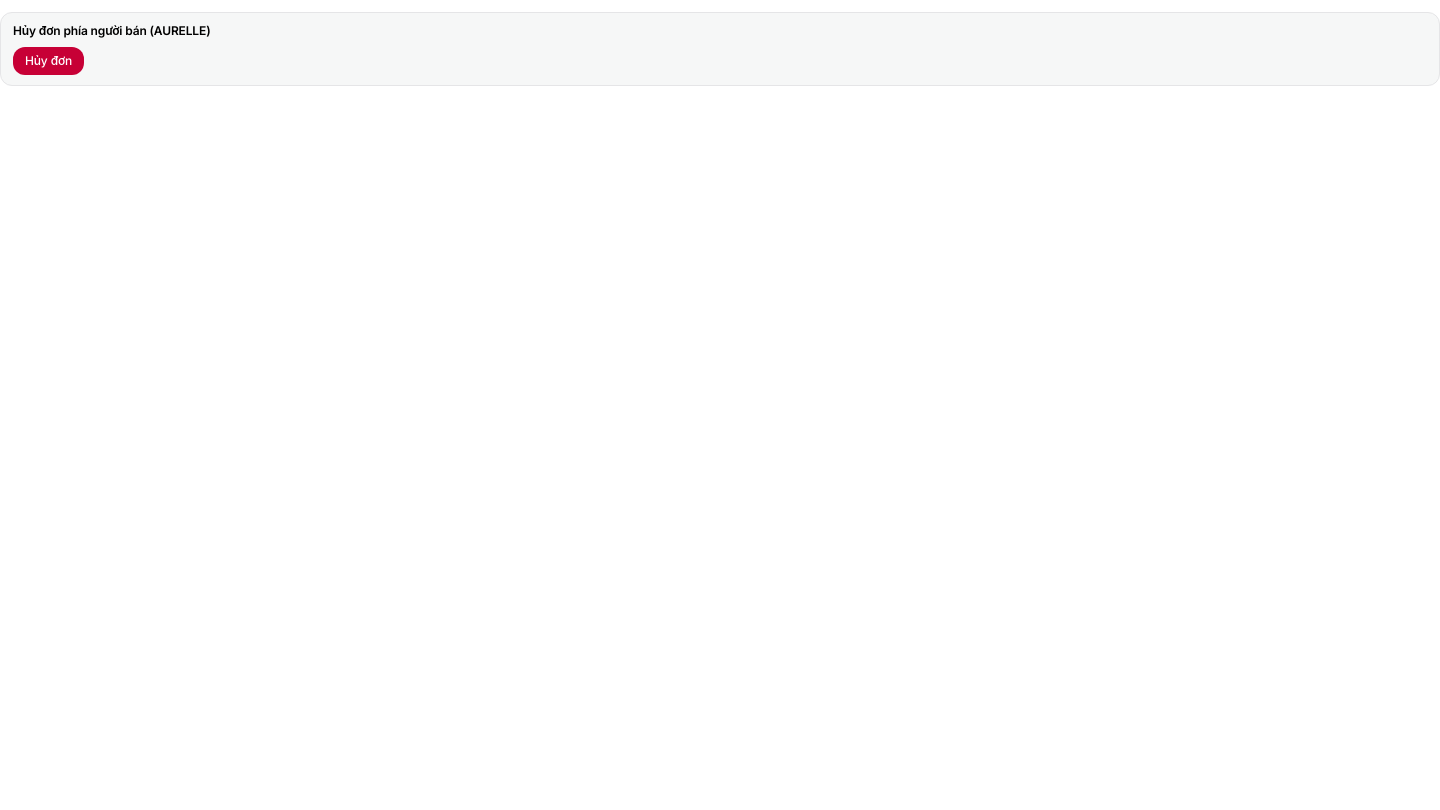
Test: SellerCancelPanel › chưa chọn lý do → nút "Hủy đơn và báo khách" bị khoá, không gọi API
The image size is (1440, 810).
Later steps or results of the test are not shown.
Click the button "Hủy đơn": (49, 61) [13, 47, 84, 75]
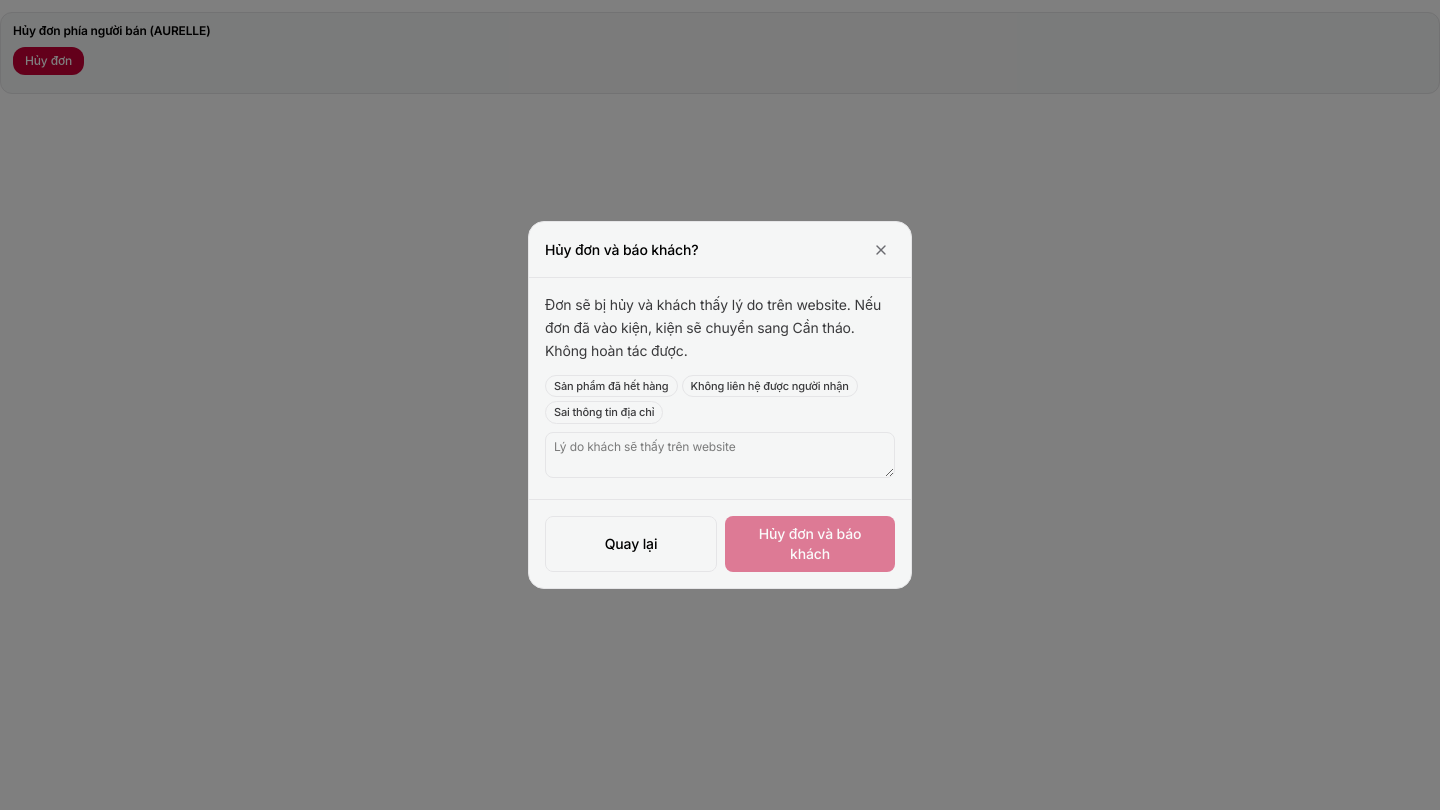
Result: the text "Không hoàn tác được." is shown at [545, 296, 881, 359]
Result: the button "Hủy đơn và báo khách" is disabled at [725, 516, 895, 572]
